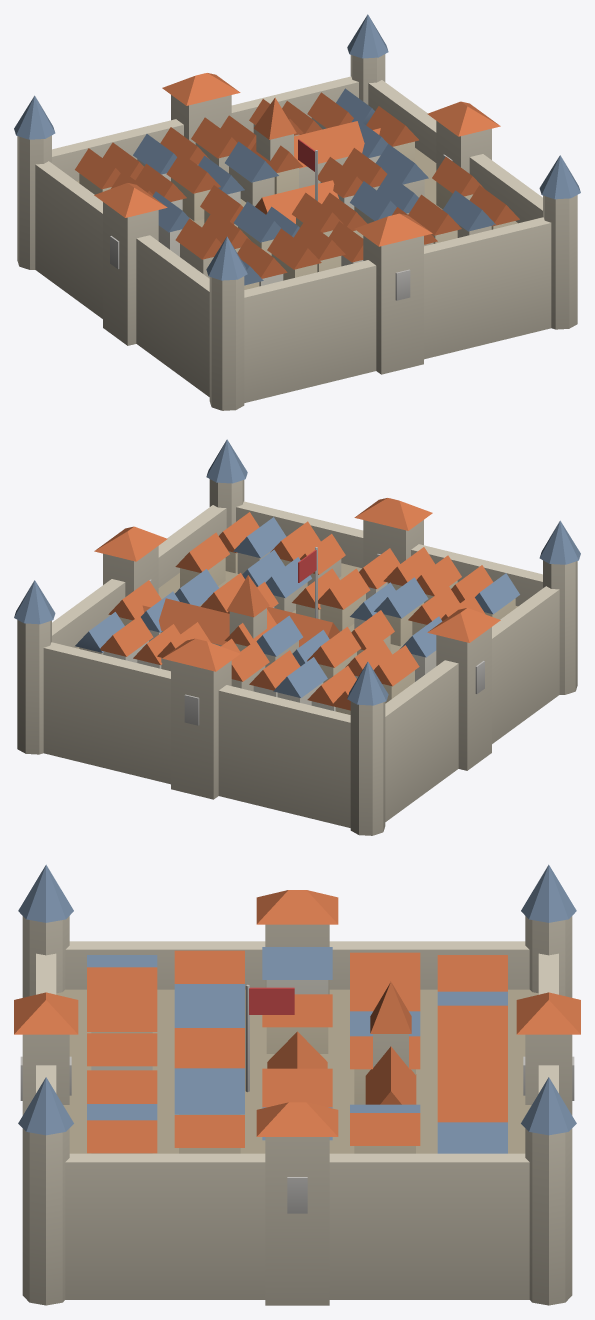
File: town_west_b.glb
3 views of the same model, one above another, from view 1: azimuth 30°, elevation 25°; view 2: azimuth 150°, elevation 25°; view 3: azimuth 270°, elevation 25° (orthographic). The views are drawn at different scales.
Visible parts, largest first — view 1: town_west_b; view 2: town_west_b; view 3: town_west_b.
Boxes of the visible parts, box(x1,y1,x2,y2) form: town_west_b: box(14, 14, 580, 410); town_west_b: box(14, 439, 580, 835); town_west_b: box(14, 864, 580, 1305).
Size of the model in its own units: 1.94 by 0.826 by 1.94.
